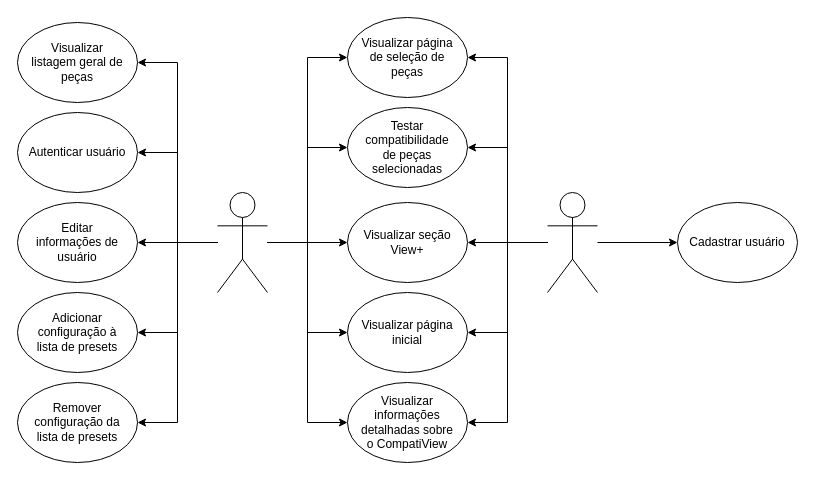
Image size: 815x480. Some labels were removed from this diagram. The centre of each missing label's shape, as x and y in pixels:
"Usuário cadastrado" goes at (x=242, y=242).
"Usuário não cadastrado" goes at (x=572, y=242).
